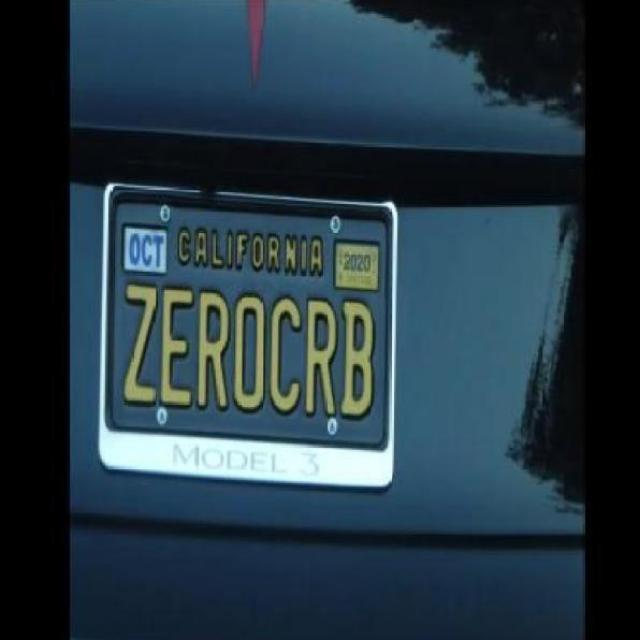license-plate: (101, 179, 403, 483)
